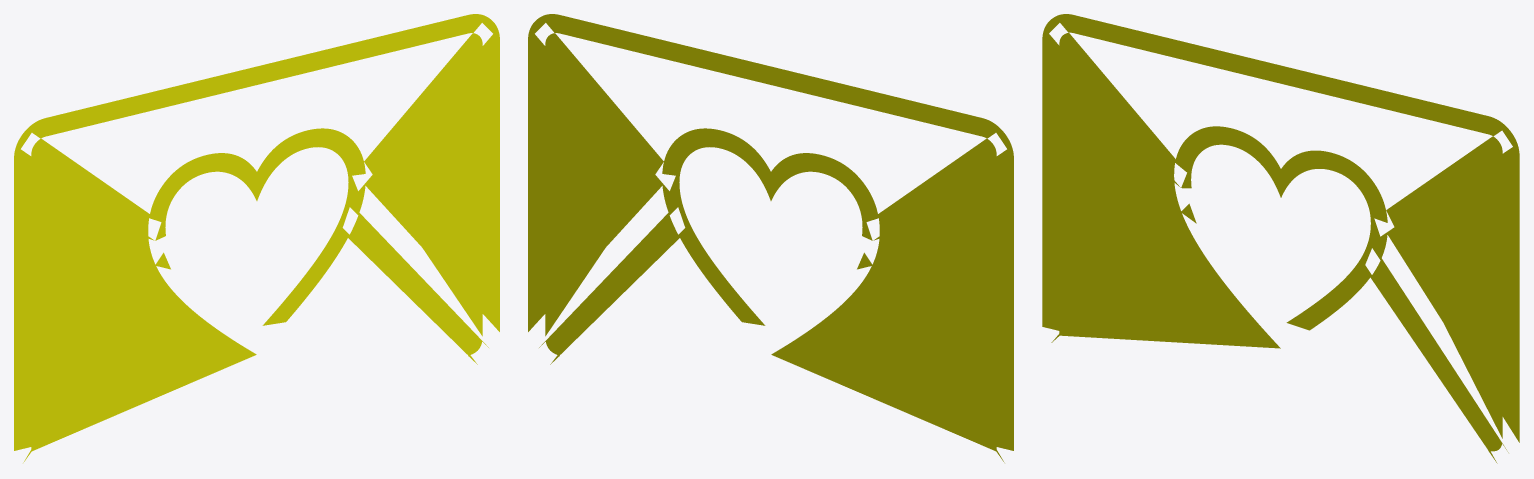
The model's file is love-letter.glb.
The picture shows the model from 3 angles, left to right: view 1: azimuth 30°, elevation 25°; view 2: azimuth 150°, elevation 25°; view 3: azimuth 330°, elevation 25°; orthographic projection.
Parts seen in each view (by area): view 1: Text.652_652; view 2: Text.652_652; view 3: Text.652_652.
Part boxes in pixels (bbox=[...]): Text.652_652: bbox=[14, 14, 499, 462]; Text.652_652: bbox=[528, 14, 1013, 462]; Text.652_652: bbox=[1042, 14, 1519, 463].
Size of the model in its own units: 1.09 by 0.759 by 2.69e-06.
